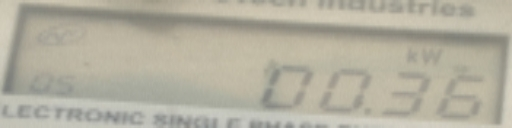0: (261, 54, 314, 111), (318, 55, 366, 113)
3: (383, 62, 430, 115)
6: (434, 67, 487, 121)
d: (362, 103, 373, 118)
